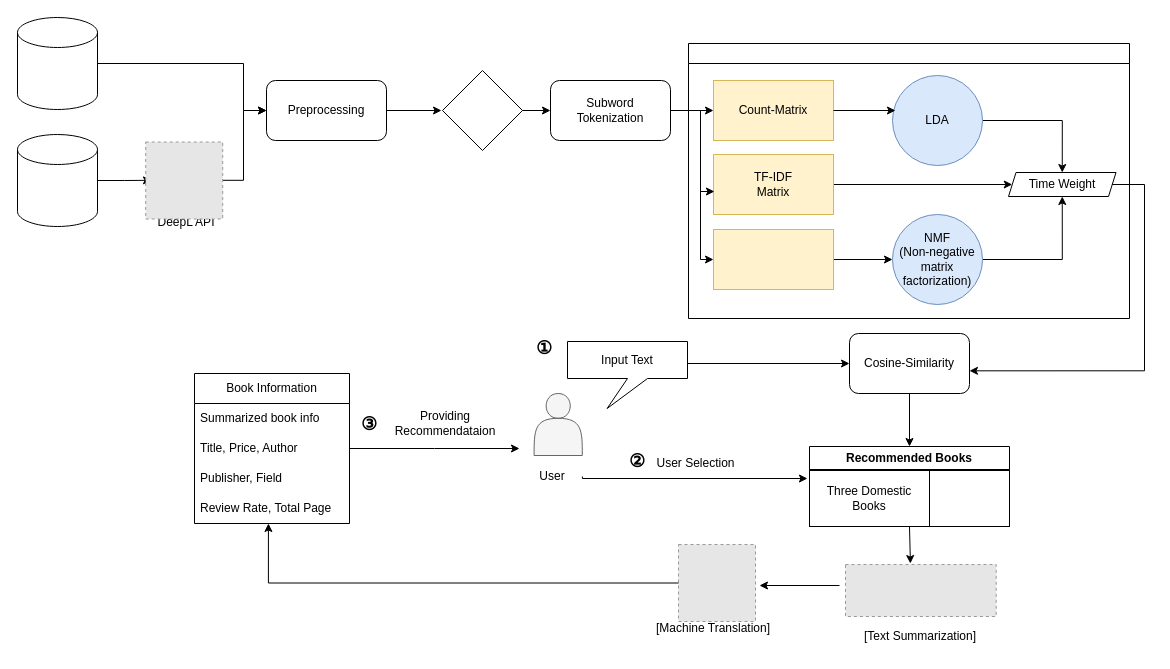
Image size: 1170x669. Some labels were removed from this diagram. Grey dashed boxes stand in for pictures. The shapes that lost their labels are listed below. From the top down, each one's box as (x1, y1, x2, y2) in pixels, then its label:
(16, 16, 98, 110): Domestic Books Datasets
(442, 70, 522, 150): Create Corpus
(16, 134, 98, 226): International Books Datasets
(688, 42, 1130, 318): Ensemble
(712, 228, 834, 290): PPMI-Matrix
(928, 470, 1010, 526): One International Book
